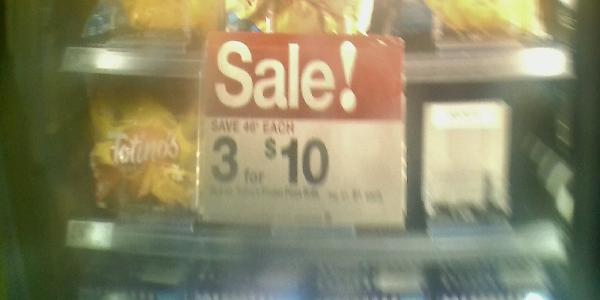icecream: (84, 90, 198, 216), (428, 1, 554, 48)
